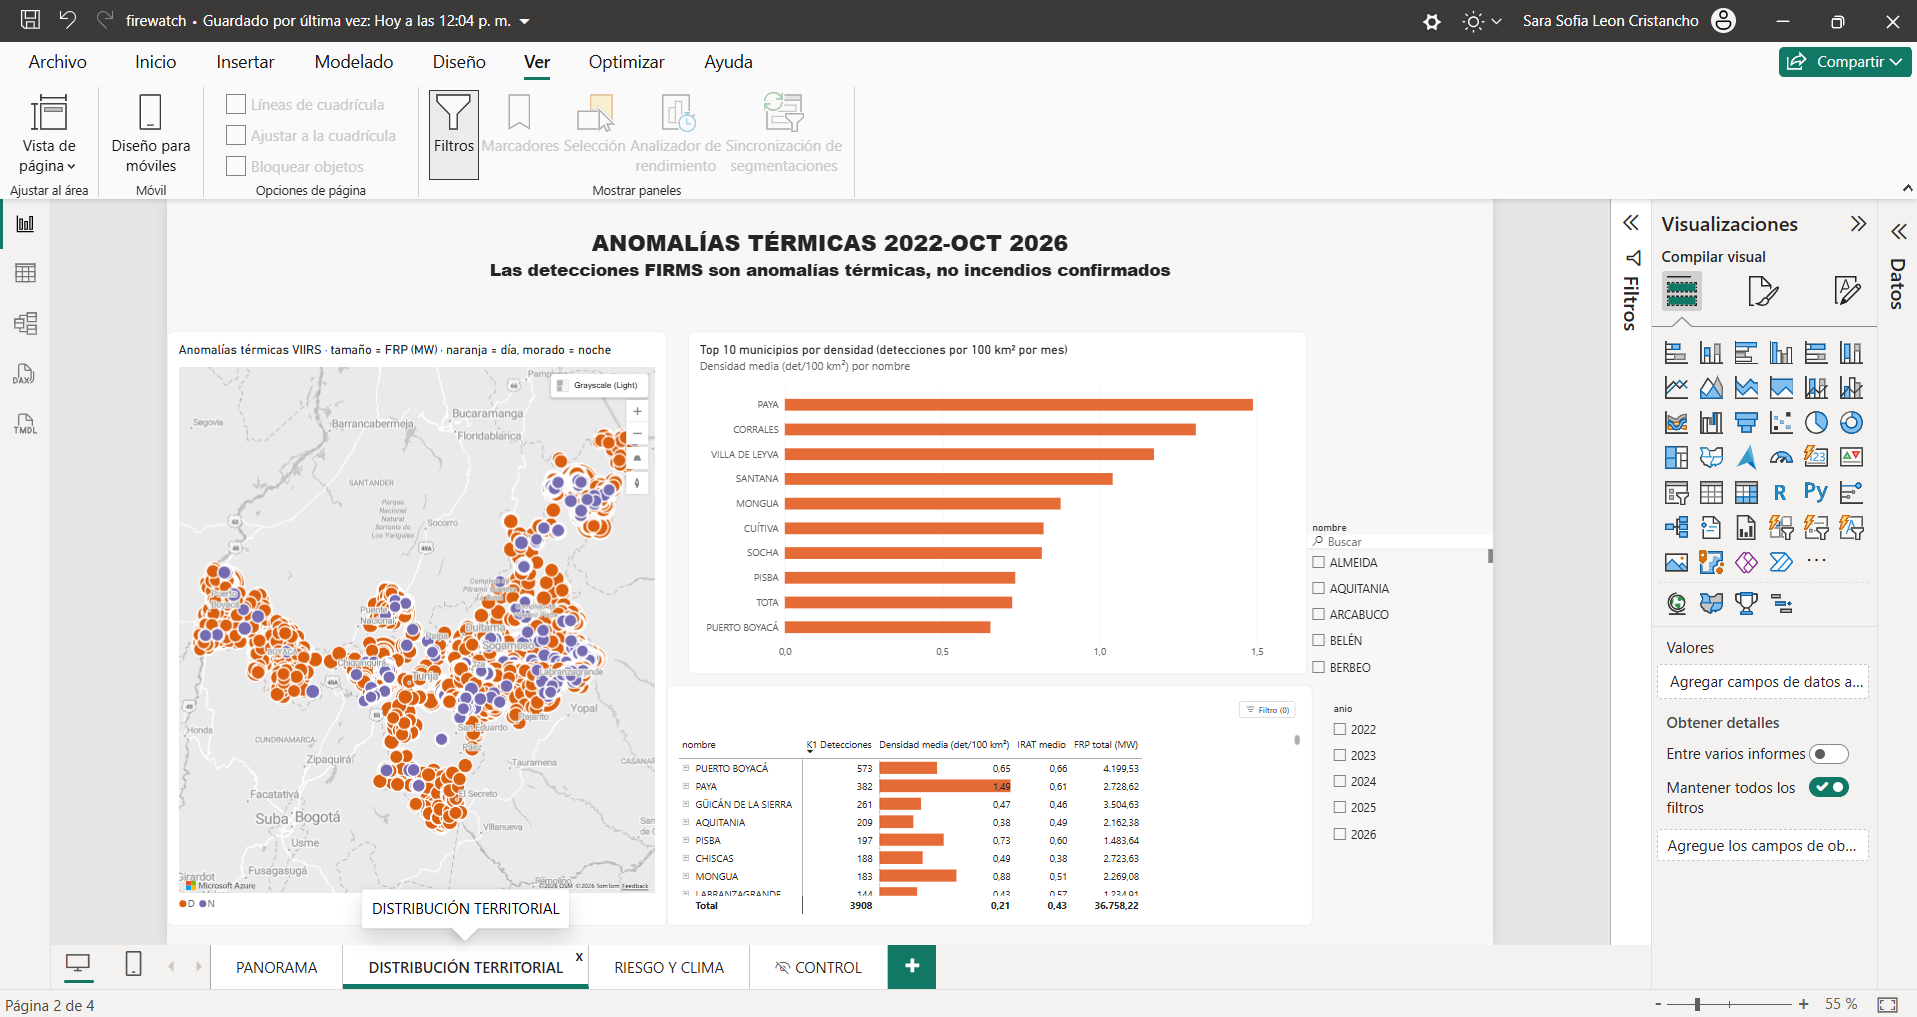

The page's visual inventory and layout, read from the dashboard file:
{"tool":"powerbi","page":{"name":"DISTRIBUCIÓN TERRITORIAL","canvas":[1920,1080],"ordinal":1},"visuals":[{"type":"textbox","box":[0,40,1920,120],"z":0},{"type":"azureMap","title":"Anomalías térmicas VIIRS · tamaño = FRP (MW) · naranja = día, morado = noche","fields":{"Series":["fact_deteccion.daynight"],"Size":["Sum(fact_deteccion.frp)"],"X":["fact_deteccion.lon"],"Y":["fact_deteccion.lat"]},"box":[0,192,724,860],"z":1000},{"type":"clusteredBarChart","title":"Top 10 municipios por densidad (detecciones por 100 km² por mes)","fields":{"Category":["dim_municipio.nombre"],"Y":["_Medidas.Densidad media (det/100 km²)"]},"box":[754,192,896,496],"z":2000},{"type":"pivotTable","fields":{"Rows":["dim_municipio.provincia_municipio.nombre","dim_municipio.provincia"],"Values":["_Medidas.K1 Detecciones","_Medidas.Densidad media (det/100 km²)","_Medidas.IRAT medio","_Medidas.FRP total (MW)"]},"box":[724,704,934,348],"z":3000},{"type":"slicer","fields":{"Values":["dim_mes.anio"]},"box":[1682,730,202,236],"z":4000},{"type":"slicer","fields":{"Values":["dim_municipio.nombre"]},"box":[1650,466,270,222],"z":5000}]}

Visuals, with their boxes on the page's 1920x1080 design canvas (x1, y1, x2, y2). These are canvas units, not pixel positions in the 1917x1017 screenshot, which may show the page scaled, cropped or inside an application window:
textbox: pyautogui.locateOnScreen(0, 40, 1920, 160)
"Anomalías térmicas VIIRS · tamaño = FRP (MW) · naranja = día, morado = noche" azureMap: pyautogui.locateOnScreen(0, 192, 724, 1052)
"Top 10 municipios por densidad (detecciones por 100 km² por mes)" clusteredBarChart: pyautogui.locateOnScreen(754, 192, 1650, 688)
pivotTable - dim_municipio.provincia_municipio.nombre x dim_municipio.provincia: pyautogui.locateOnScreen(724, 704, 1658, 1052)
slicer - dim_mes.anio: pyautogui.locateOnScreen(1682, 730, 1884, 966)
slicer - dim_municipio.nombre: pyautogui.locateOnScreen(1650, 466, 1920, 688)
